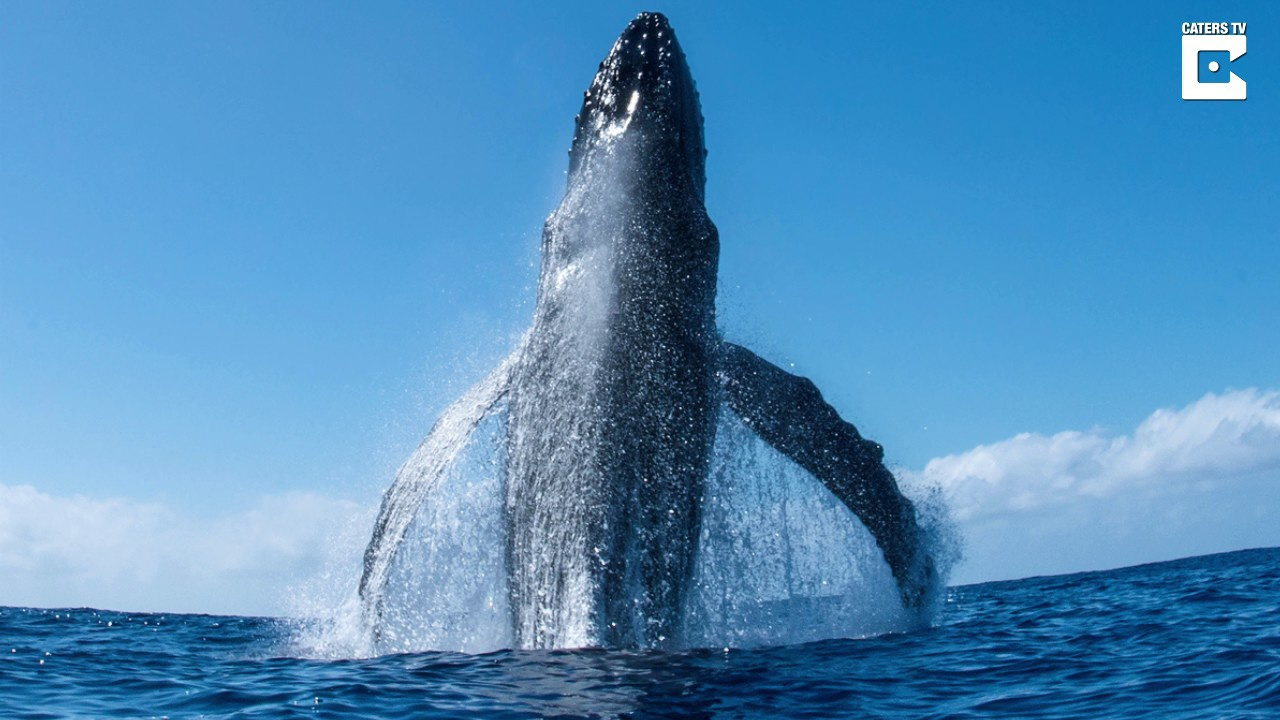humpback: (511, 12, 718, 651)
